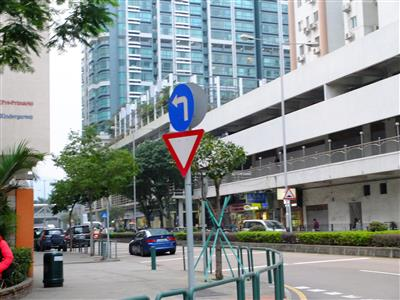bump: (281, 186, 297, 201)
leftTurnOnly: (166, 81, 197, 131)
yield: (160, 128, 205, 179)
